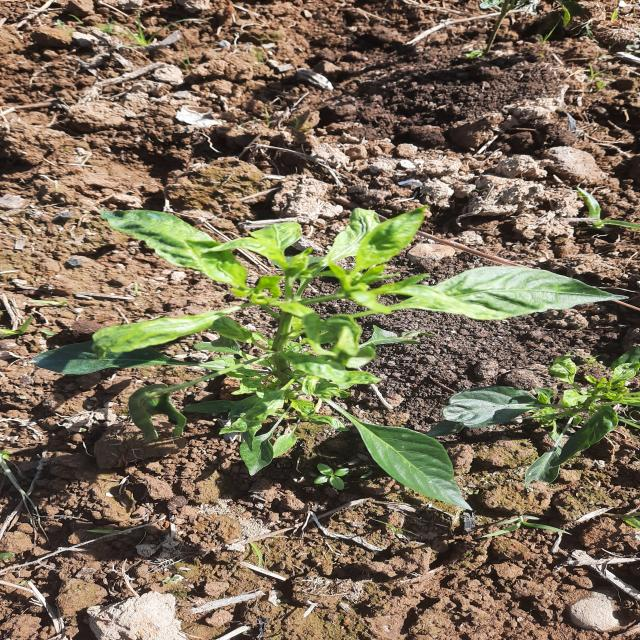virus_kuning: (356, 193, 424, 276)
